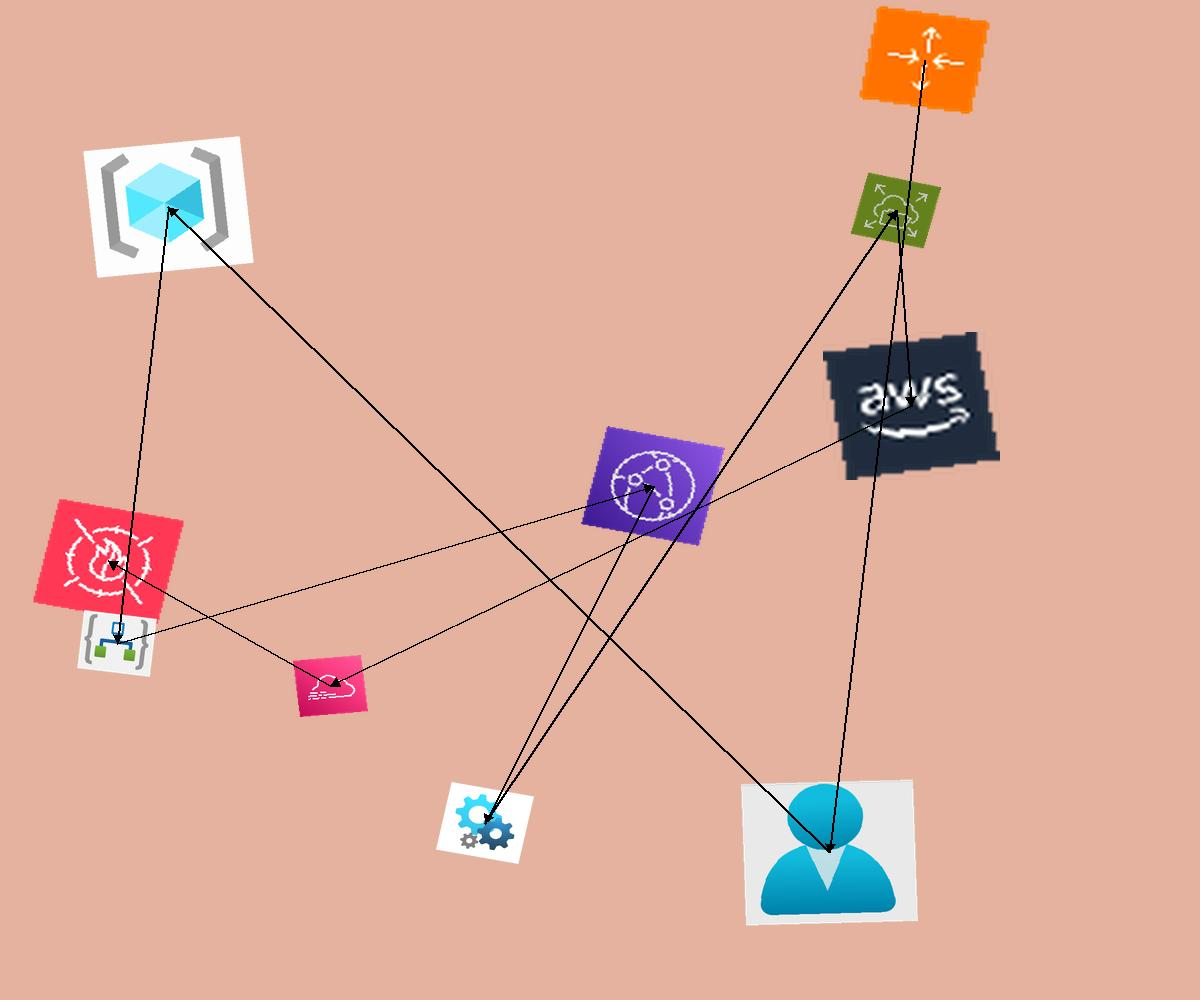AWS-Cloud-logo: (823, 332, 1000, 480)
AWS-CloudFront: (581, 426, 725, 546)
AWS-CloudTrail: (293, 655, 368, 717)
AWS-EFS: (850, 172, 942, 249)
AWS-Scaling-group: (857, 4, 992, 116)
AWS-WAF: (32, 498, 185, 625)
Azure_api: (436, 782, 534, 864)
Azure_integration-204-Logic-Apps: (77, 610, 157, 677)
Azure_resource_group: (83, 136, 254, 278)
Azure_users: (741, 779, 918, 926)
